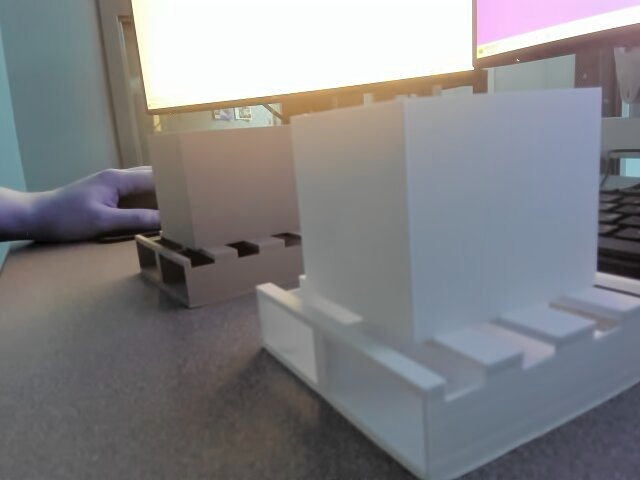grey pallet: (118, 108, 322, 308)
white pallet: (251, 90, 640, 480)
